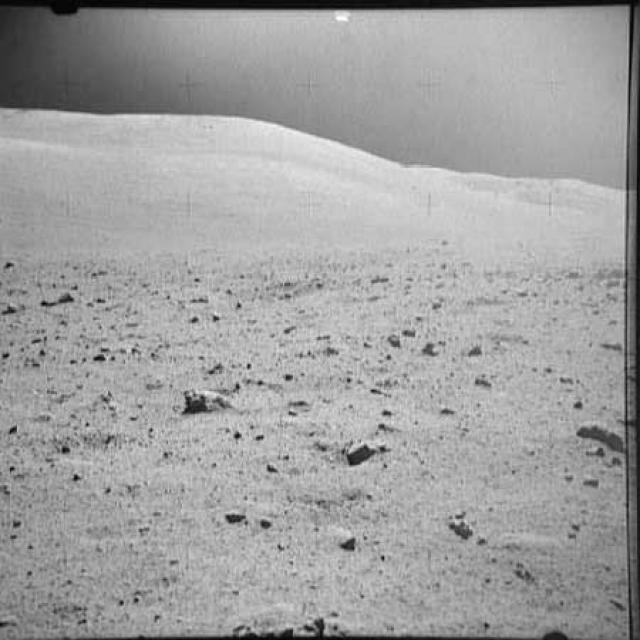rock: (568, 406, 636, 464), (177, 375, 236, 416), (338, 428, 398, 467)
